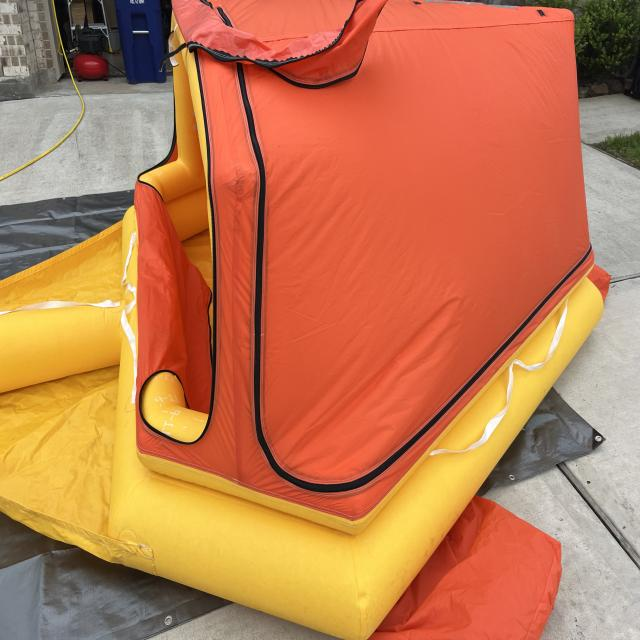Multi-person_life_raft: (0, 0, 610, 639)
